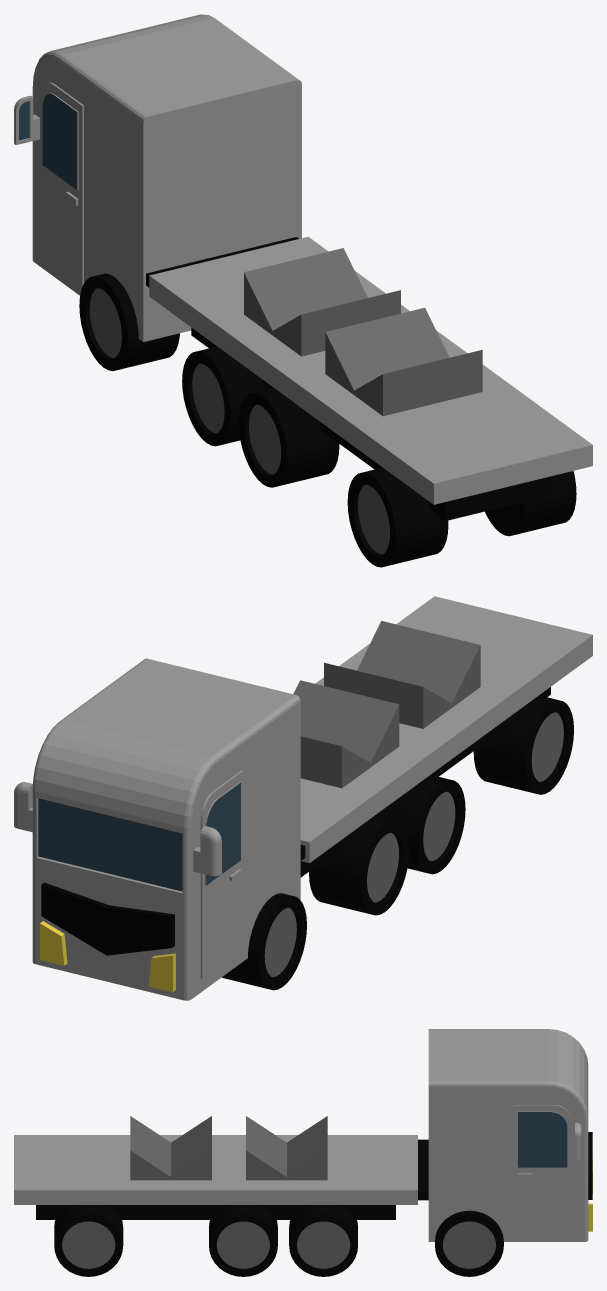
The model's file is truck4.fbx.
The picture shows the model from 3 angles, top to bottom: view 1: azimuth 30°, elevation 25°; view 2: azimuth 150°, elevation 25°; view 3: azimuth 270°, elevation 25°; orthographic projection. The views are drawn at different scales.
Visible parts, largest first — view 1: Cube.003, Cube.002, Cube.001, Cube, Cylinder.009, Cylinder.008, Cylinder.004, Cylinder.005, Cylinder.010; view 2: Cube.003, Cube.002, Cube.001, Cube, Cylinder.009, Cylinder.005, Cylinder.008, Cylinder.004; view 3: Cube.003, Cube.002, Cylinder.010, Cube, Cube.001, Cylinder.007, Cylinder.006, Cylinder.003.
Part boxes in pixels (<box>): Cube.003: <box>14,14,301,341</box>; Cube.002: <box>146,236,592,520</box>; Cube.001: <box>325,307,482,416</box>; Cube: <box>244,248,400,356</box>; Cylinder.009: <box>347,467,448,567</box>; Cylinder.008: <box>238,388,339,487</box>; Cylinder.004: <box>79,273,179,370</box>; Cylinder.005: <box>182,346,265,446</box>; Cylinder.010: <box>485,471,576,536</box>; Cube.003: <box>14,658,300,1000</box>; Cube.002: <box>300,596,592,877</box>; Cube.001: <box>324,621,480,728</box>; Cube: <box>293,680,399,788</box>; Cylinder.009: <box>473,695,573,794</box>; Cylinder.005: <box>309,816,409,915</box>; Cylinder.008: <box>383,775,465,874</box>; Cylinder.004: <box>222,893,306,990</box>; Cube.003: <box>428,1029,592,1241</box>; Cube.002: <box>14,1135,428,1219</box>; Cylinder.010: <box>54,1205,123,1276</box>; Cube: <box>246,1116,327,1180</box>; Cube.001: <box>130,1116,211,1180</box>; Cylinder.007: <box>209,1205,277,1276</box>; Cylinder.006: <box>289,1205,357,1276</box>; Cylinder.003: <box>435,1210,503,1276</box>.
Bounding box in the file's own units: 445 × 552 × 1519.
